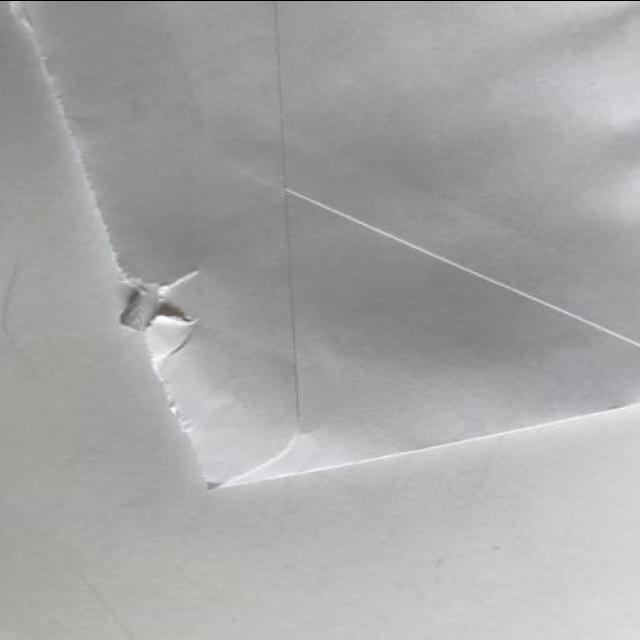kertas: (4, 0, 640, 494)
